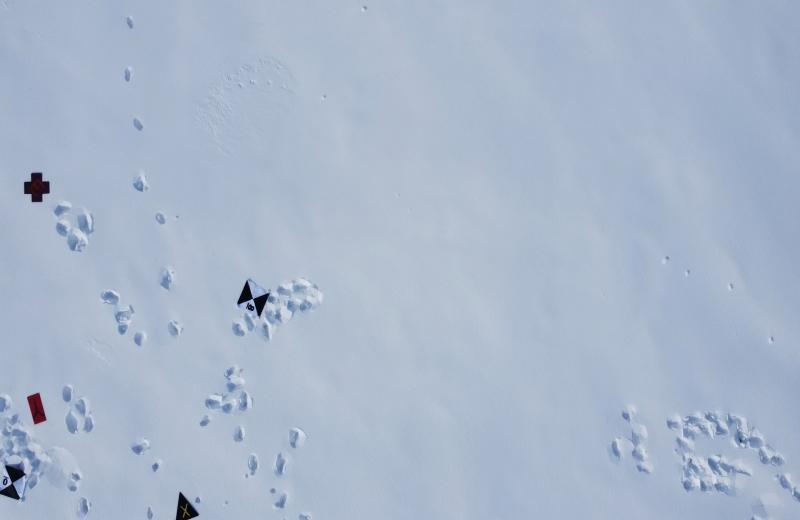Cross: (21, 171, 52, 209)
Rectangle: (24, 390, 51, 426)
Triangle: (171, 485, 201, 520)
